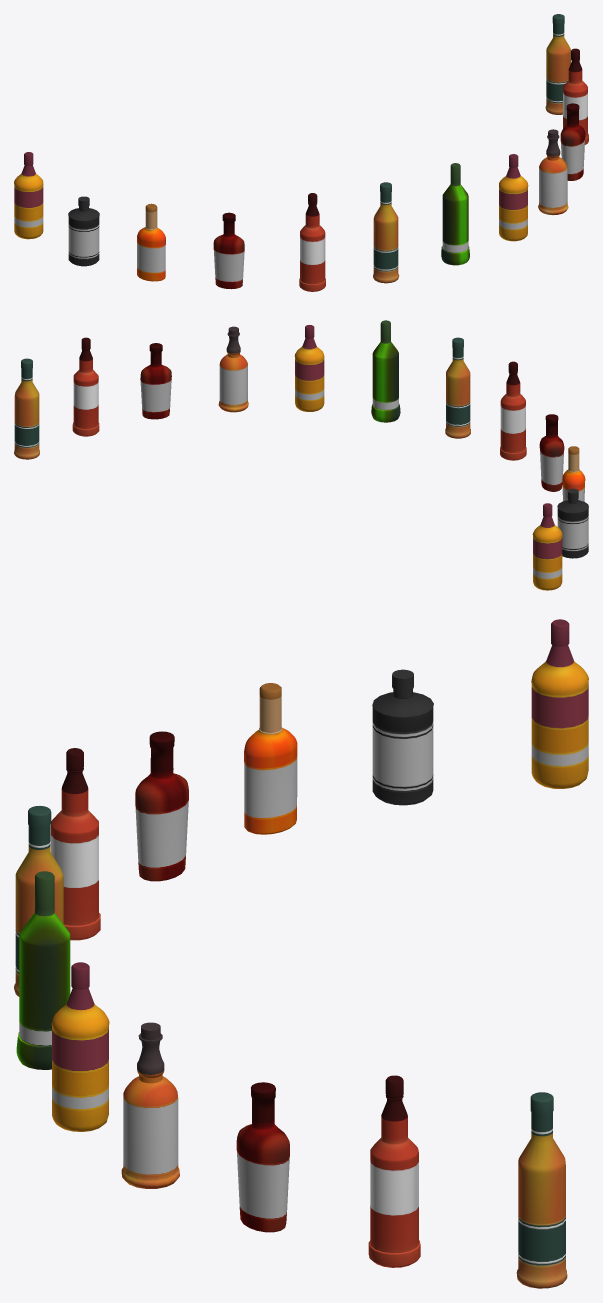
File: Bottles01_11.FBX
3 views of the same model, one above another, from view 1: azimuth 30°, elevation 25°; view 2: azimuth 150°, elevation 25°; view 3: azimuth 270°, elevation 25° (orthographic). The views are drawn at different scales.
Visible parts, largest first — view 1: Bottles01_11; view 2: Bottles01_11; view 3: Bottles01_11.
Boxes of the visible parts, x1=… form: Bottles01_11: x1=14, y1=14, x2=588, y2=291; Bottles01_11: x1=14, y1=320, x2=588, y2=590; Bottles01_11: x1=14, y1=619, x2=588, y2=1288.
Bounding box in the file's own units: 186 × 30.73 × 86.82.
